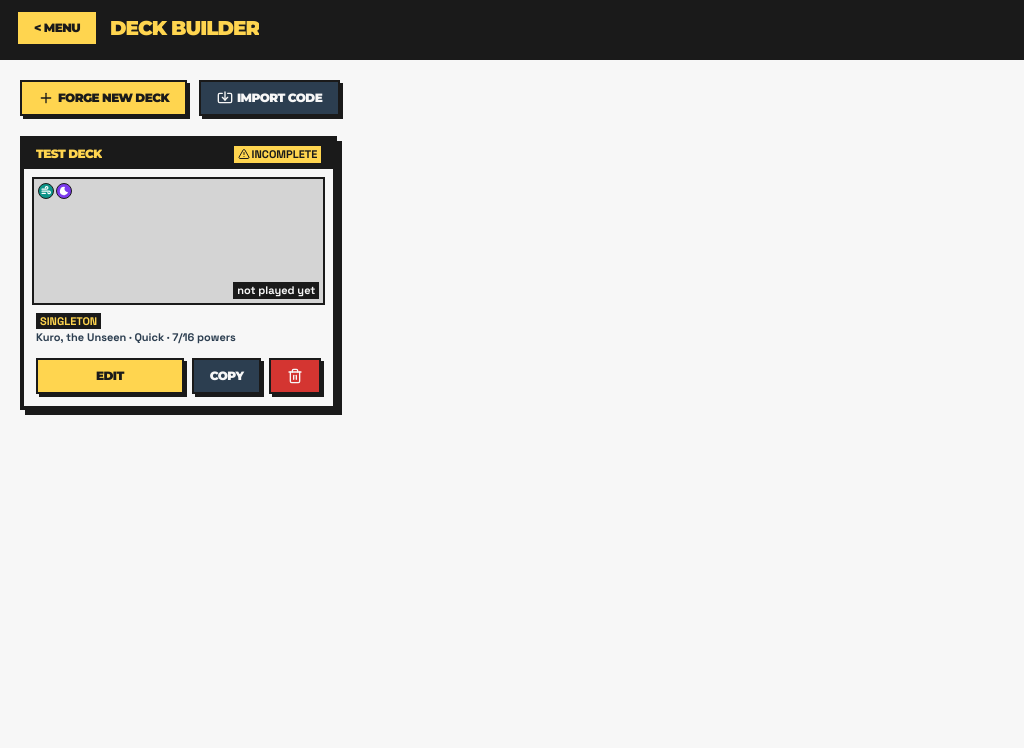
Test case: deck editor › one-line banner with a clickable fix; the fix is undoable
Click the button "EDIT".
click(110, 376)  # box [36,358,184,394]
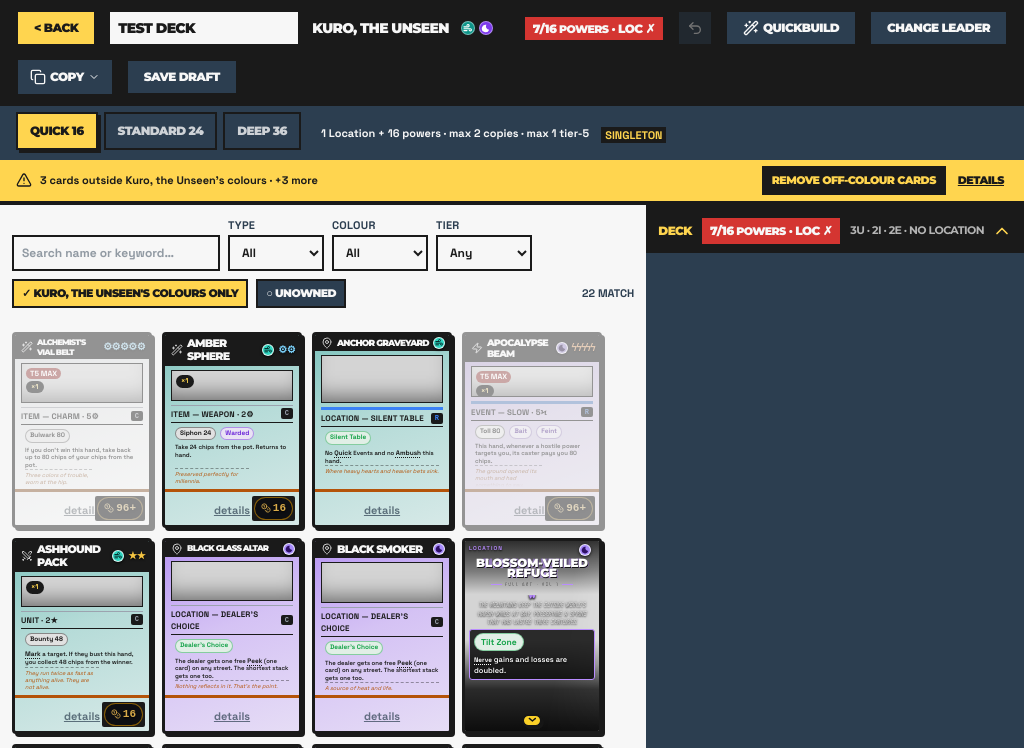
Click the button "REMOVE OFF-COLOUR CARDS".
click(854, 180)  # box [762,166,946,194]
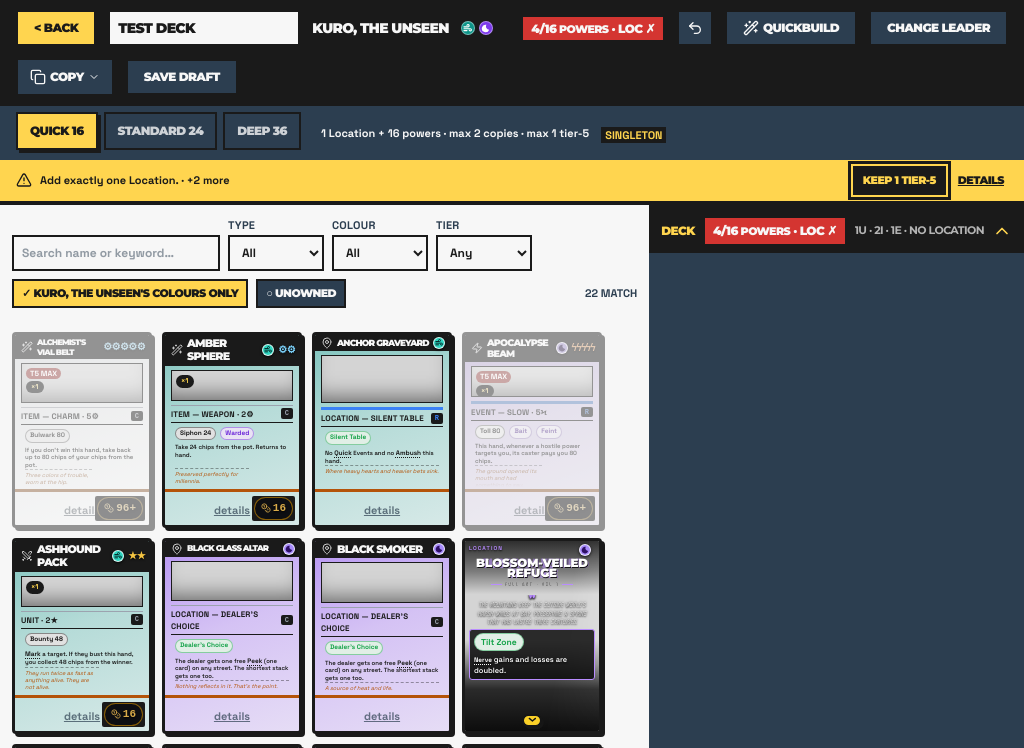
Check: the button "REMOVE OFF-COLOUR CARDS" is gone
Check: the text "3 cards outside Kuro, the Unseen's colours· +3 more" is gone
Check: the text "Add exactly one Location. · +2 more" is shown, box [40,173,230,187]
Click the button named "Undo last deck edit".
click(695, 28)  # box [677,10,713,46]
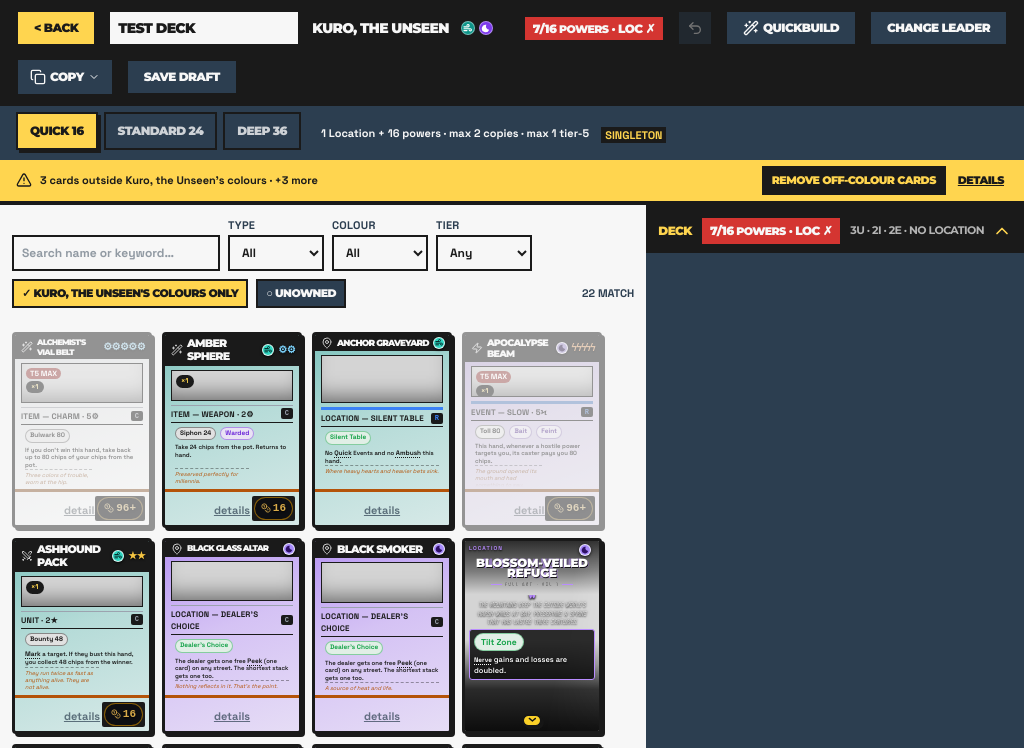
Check: the button "REMOVE OFF-COLOUR CARDS" is shown, box [762,166,946,194]
Check: the button named "Undo last deck edit" is disabled, box [677,10,713,46]
